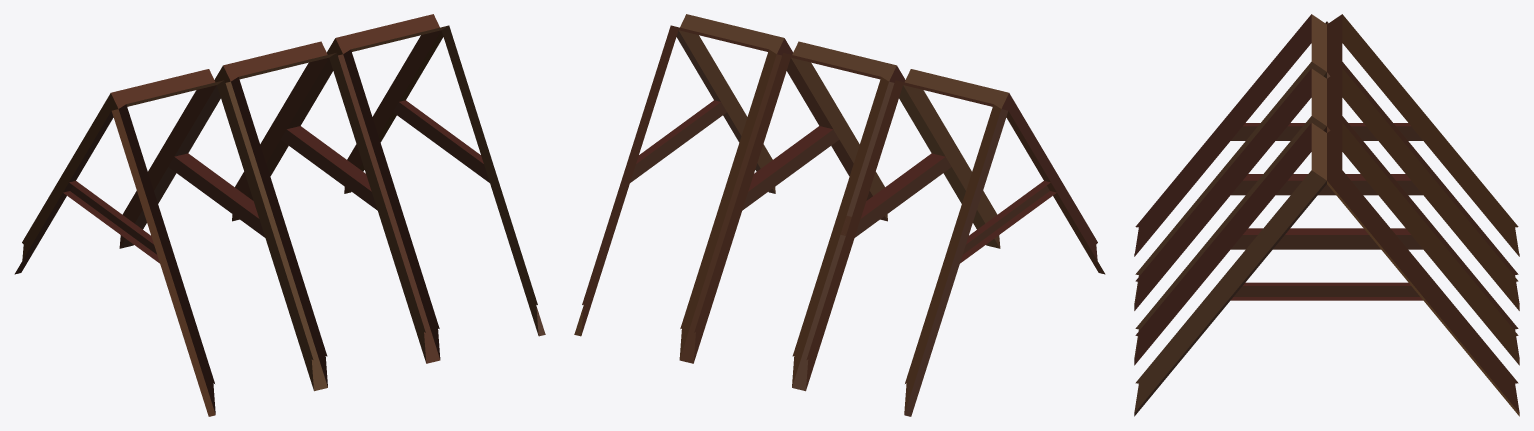
The model's file is Ceiling_HomeA-RoofA-6m.fbx.
3 renders of one model, left to right at view 1: azimuth 30°, elevation 25°; view 2: azimuth 150°, elevation 25°; view 3: azimuth 270°, elevation 25°, orthographic.
Visible parts, largest first — view 1: Ceiling_HomeA-RoofA-6m; view 2: Ceiling_HomeA-RoofA-6m; view 3: Ceiling_HomeA-RoofA-6m.
Part boxes in pixels (x1,y1,x2,y2): Ceiling_HomeA-RoofA-6m: (14,14,545,416); Ceiling_HomeA-RoofA-6m: (574,14,1105,416); Ceiling_HomeA-RoofA-6m: (1134,14,1519,416).
Bounding box in the file's own units: 600 × 418 × 600.
